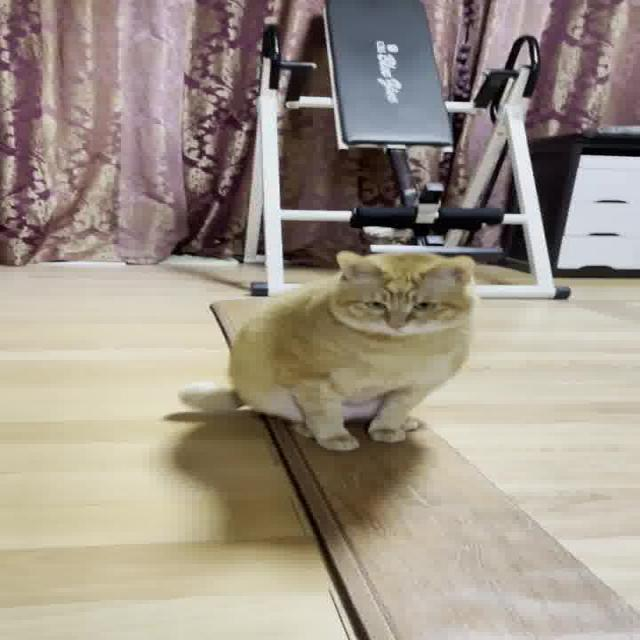cat: (163, 242, 501, 456)
